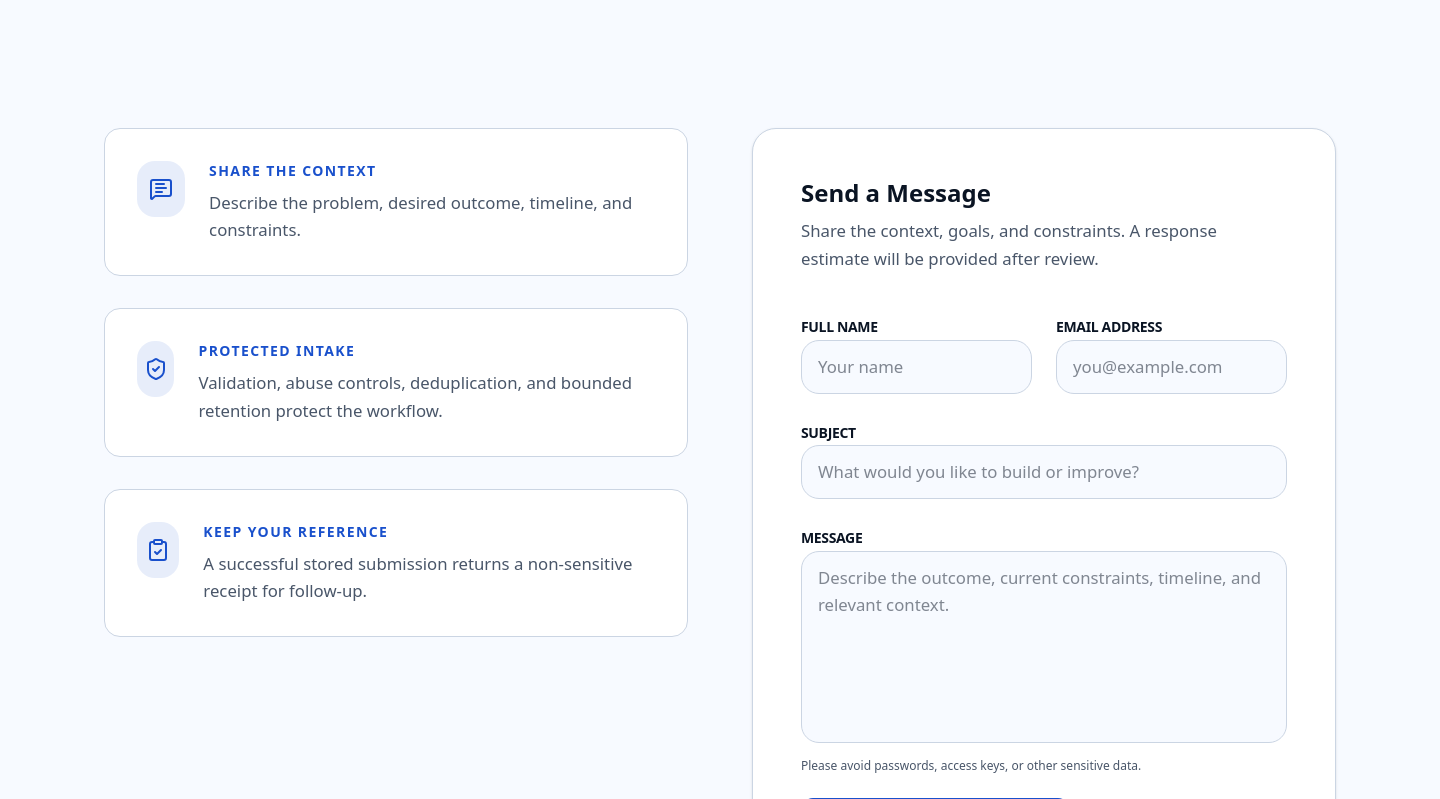
Test case: ContactContentSection › submits to the real endpoint and announces the stored receipt
Type "Ada Lovelace" into the field labelled "Full Name" at (916, 367), box x1=801 y1=340 x2=1032 y2=394
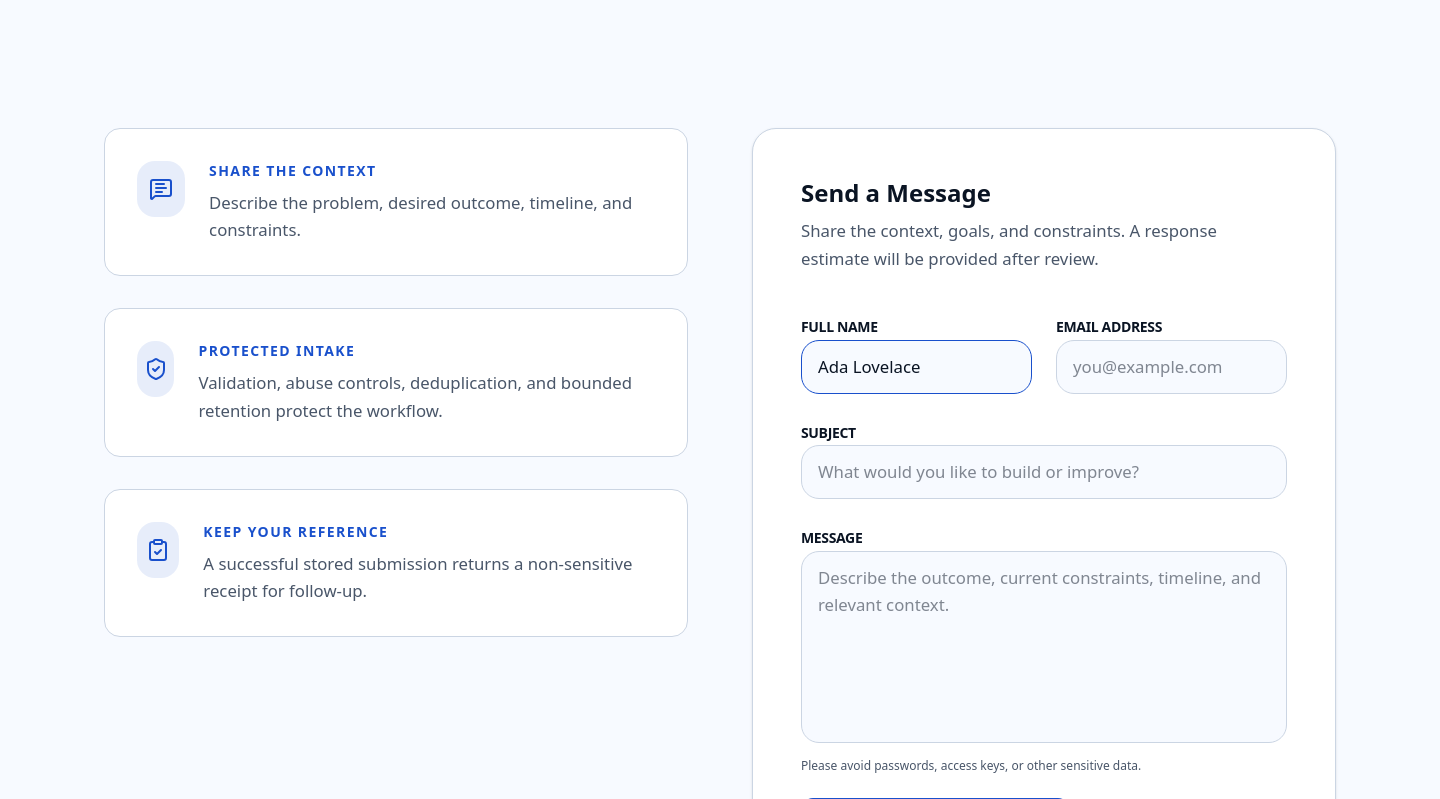
Type "ada@example.com" into the field labelled "Email Address" at (1172, 367), box x1=1056 y1=340 x2=1287 y2=394
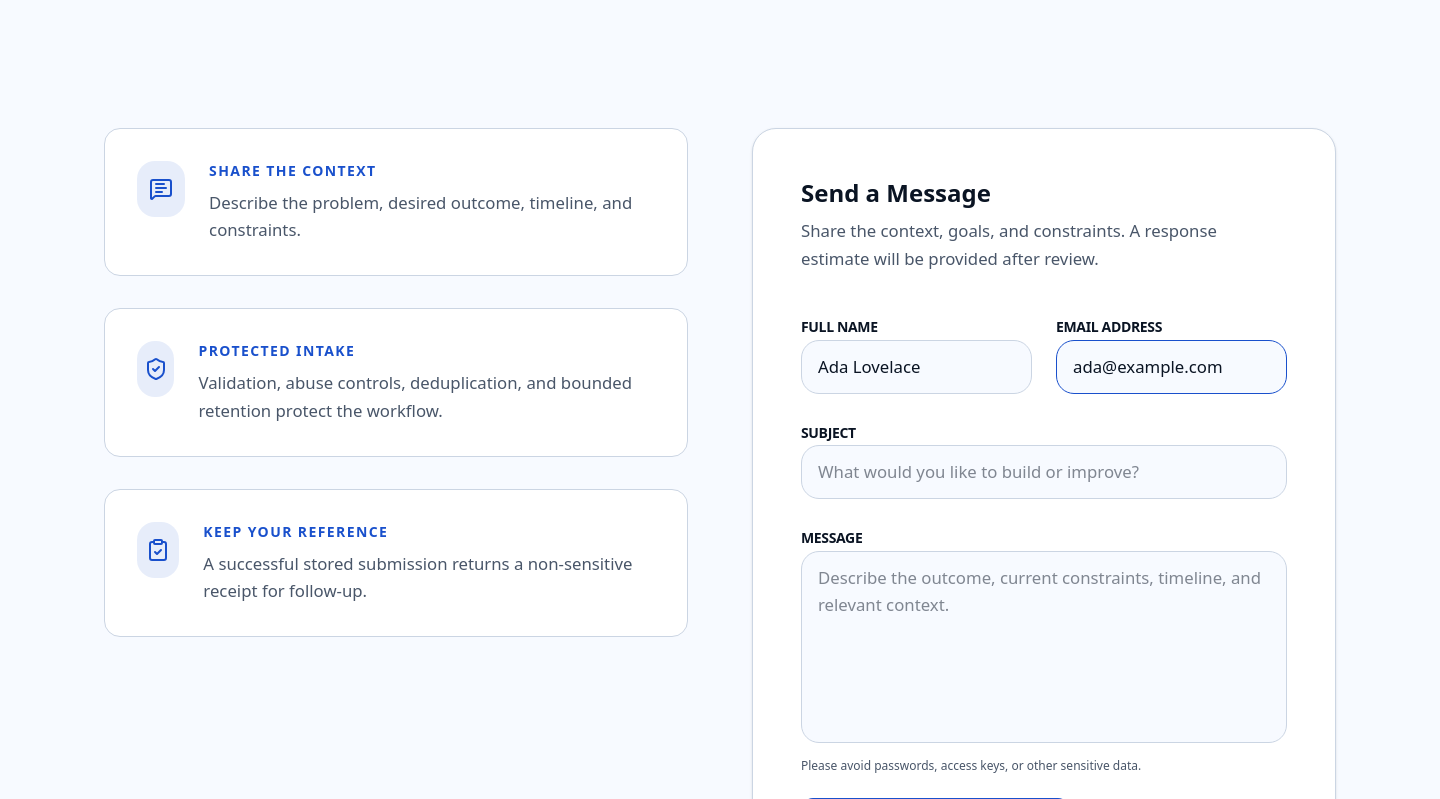
Type "System design review" into the field labelled "Subject" at (1044, 472), box x1=801 y1=445 x2=1287 y2=499
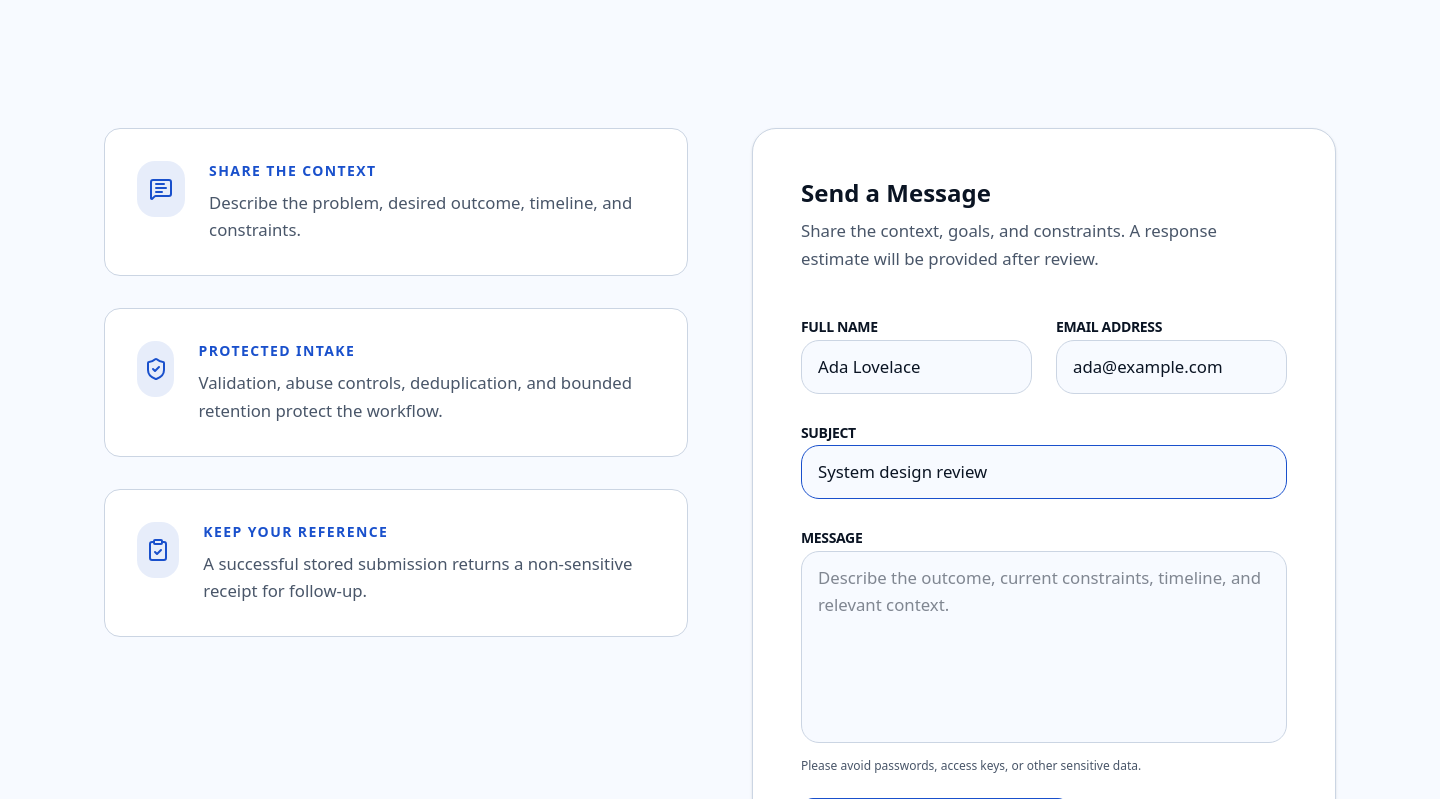
Type "Please review the architecture for this platform." into the text box labelled "Message" at (1044, 647), box x1=801 y1=551 x2=1287 y2=742
(page scrolled)
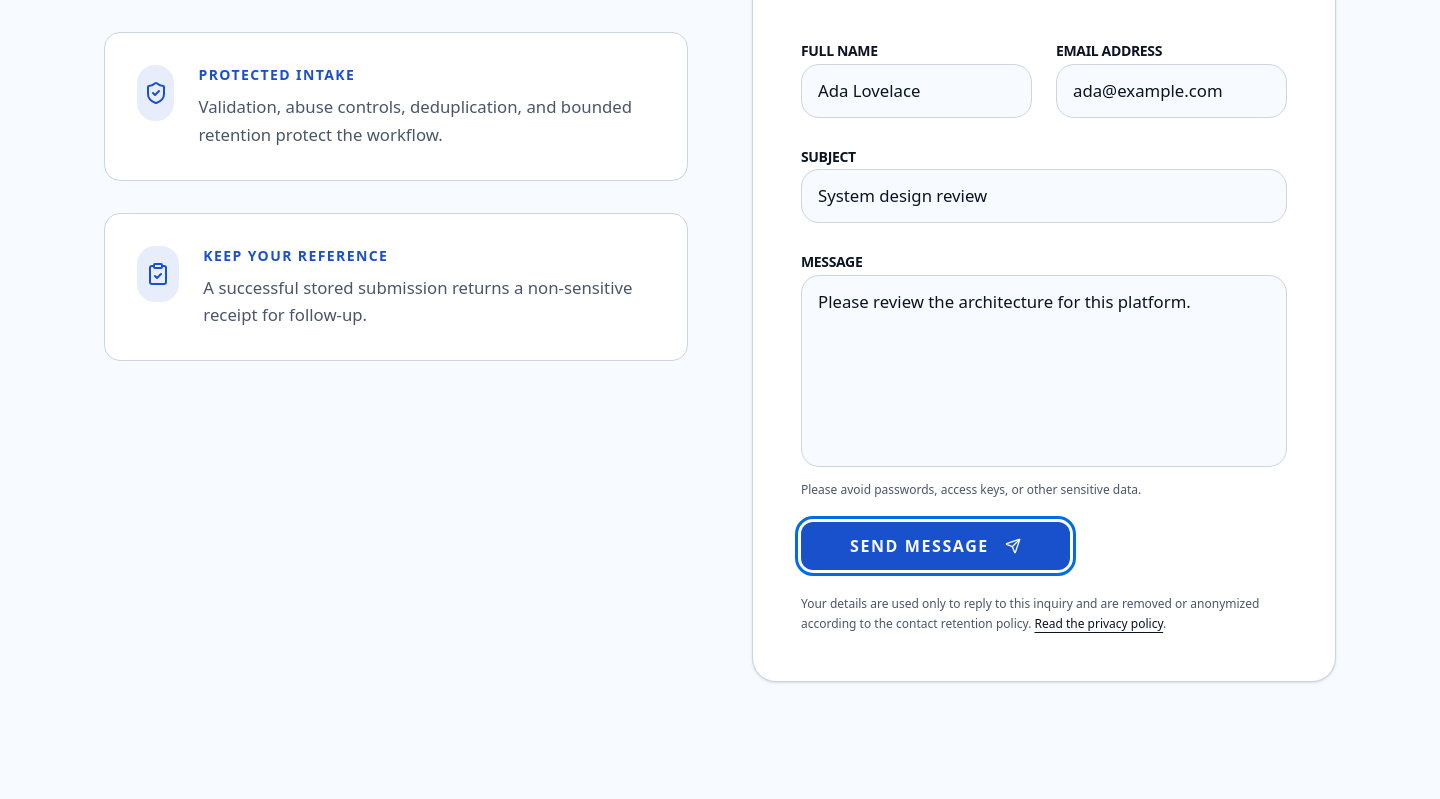
Press Enter
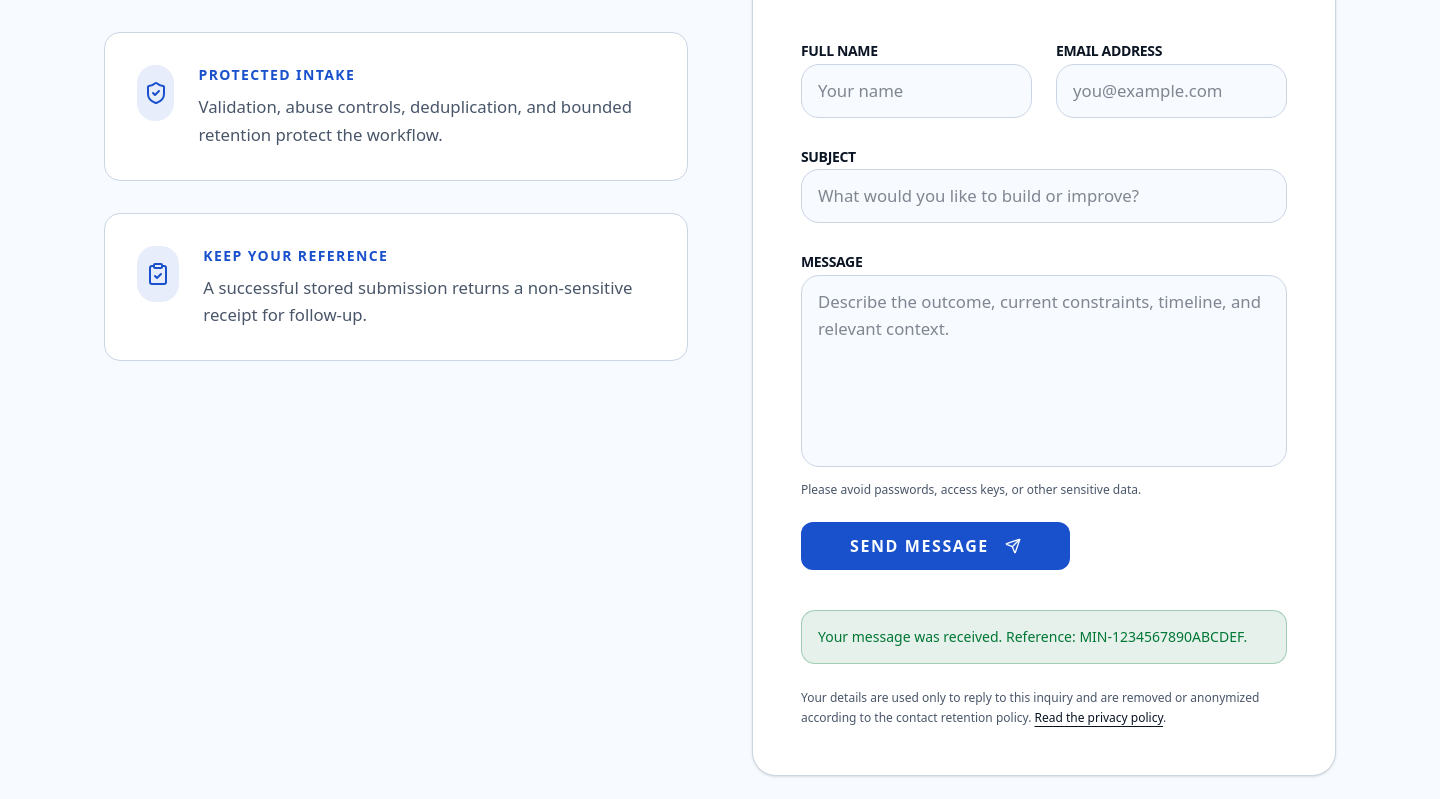
Result: the message shows "Reference: MIN-1234567890ABCDEF" at x1=1002 y1=627 x2=1247 y2=646
